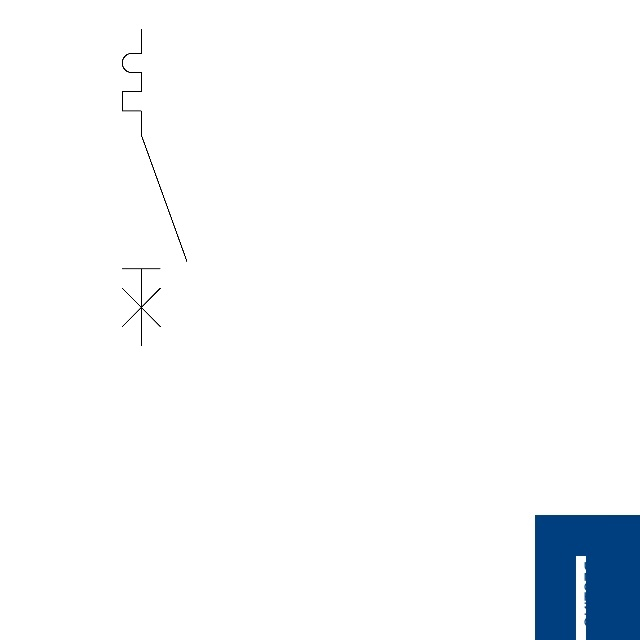interruptor_termomagnetico: (114, 21, 195, 354)
